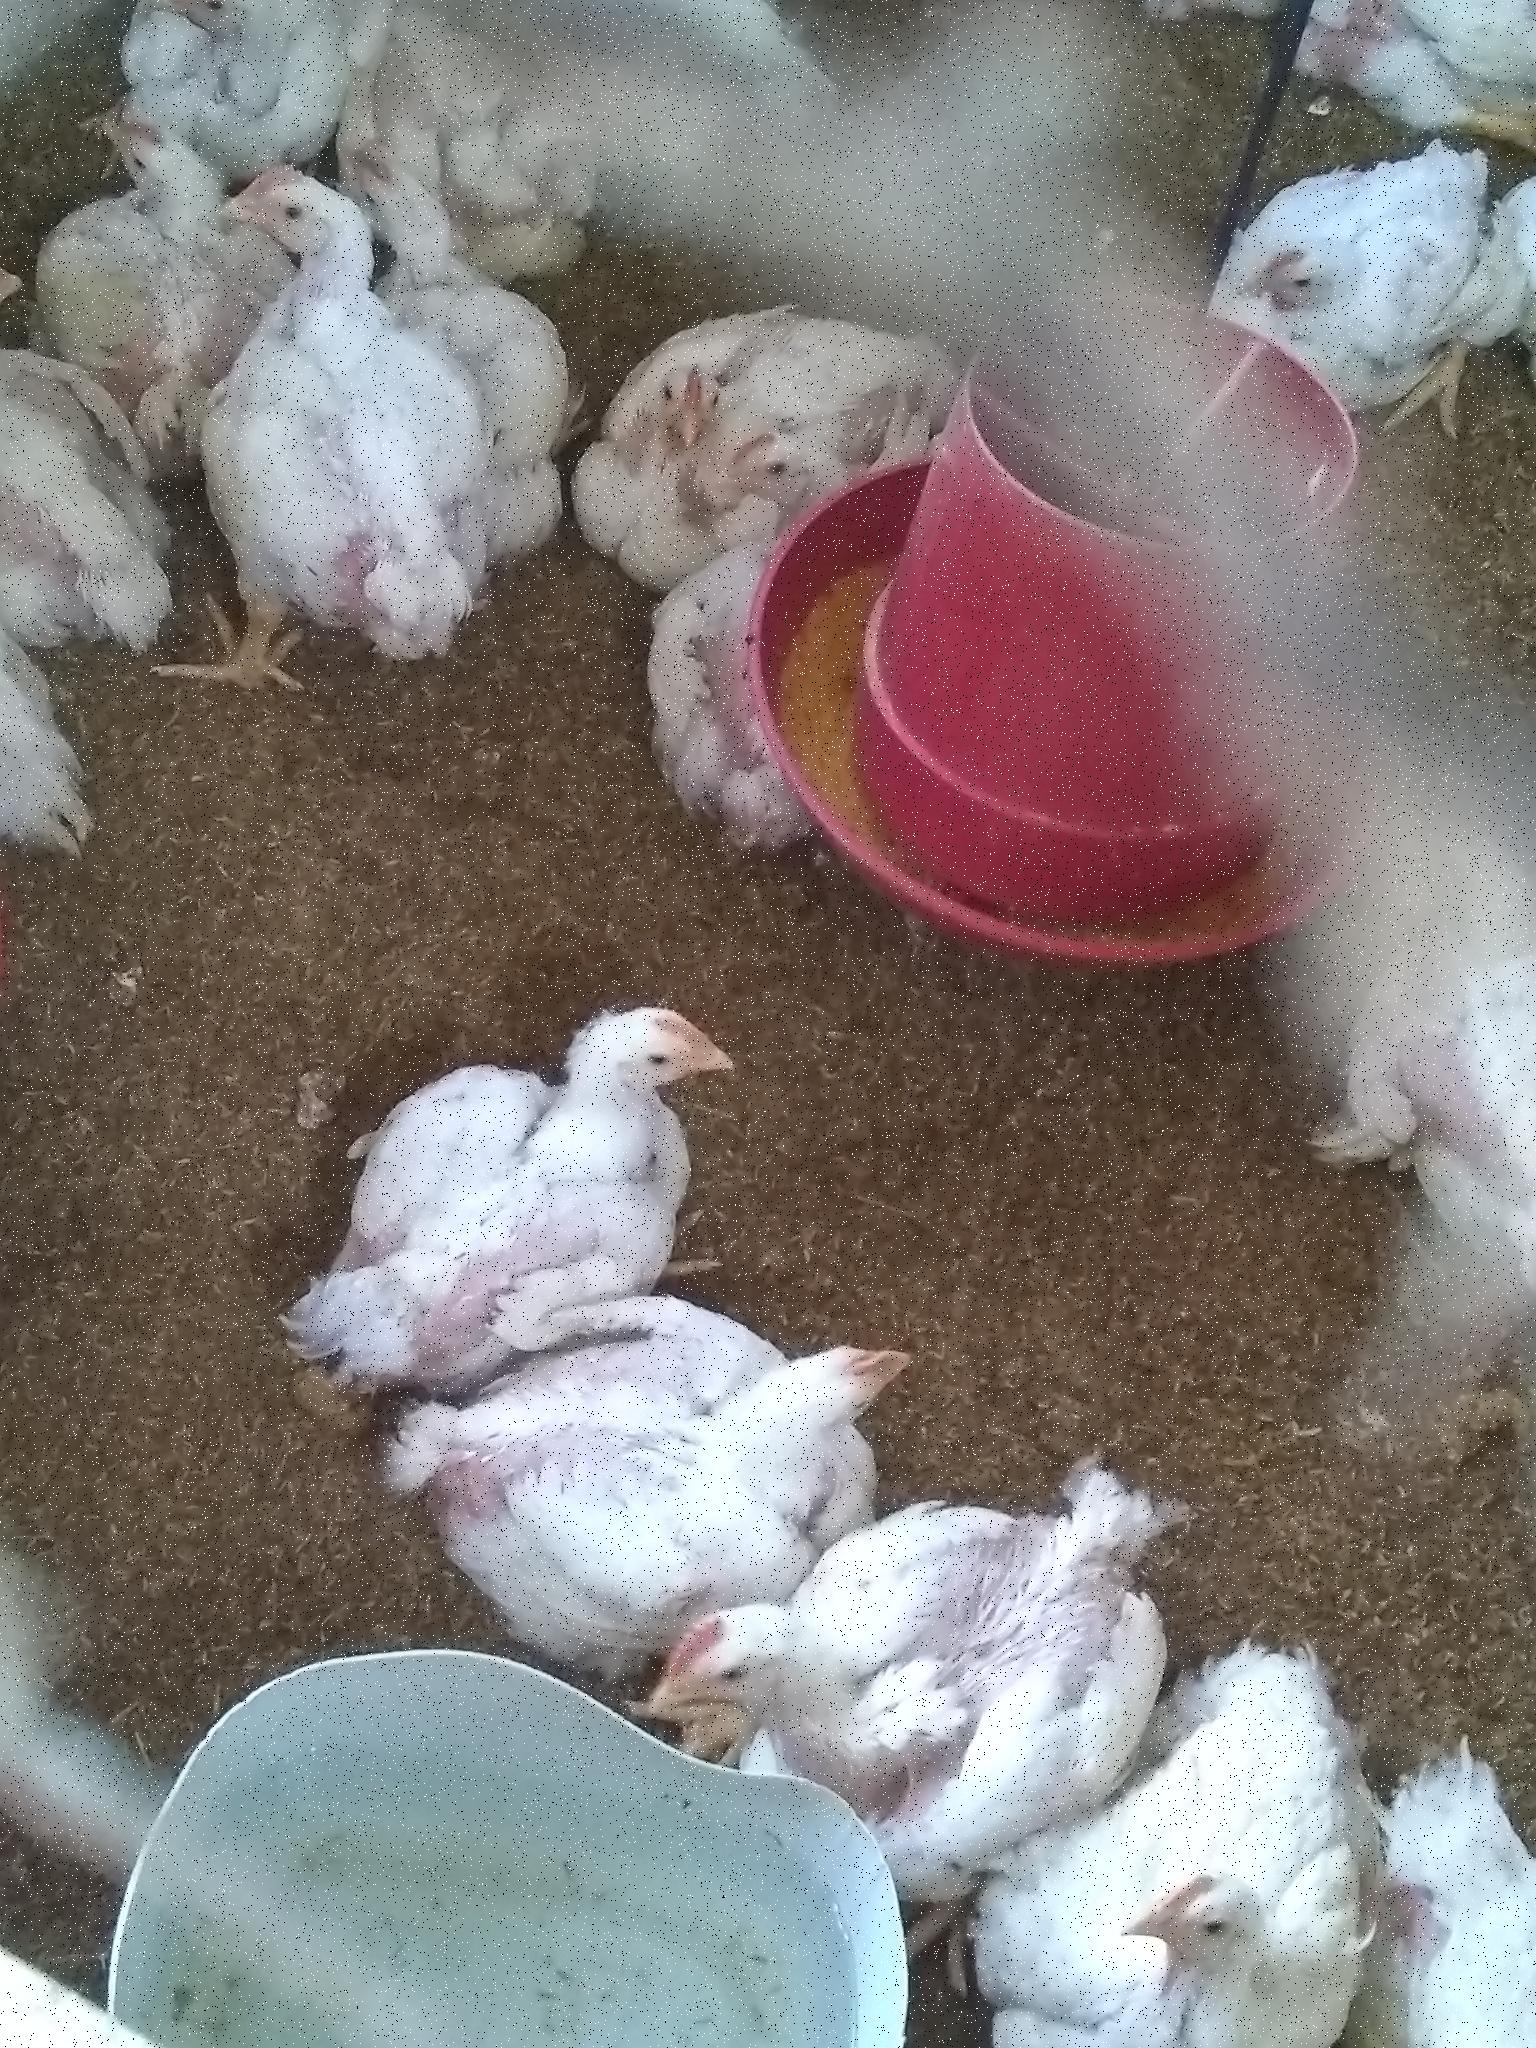Pollos: (616, 1469, 1241, 1837), (649, 364, 1002, 850), (1016, 1650, 1442, 2048), (453, 1277, 970, 1600), (211, 163, 478, 750), (269, 985, 745, 1272), (1129, 98, 1510, 427), (361, 90, 576, 531), (2, 337, 171, 760), (87, 2, 395, 226), (553, 281, 741, 531), (1384, 1771, 1536, 2048), (63, 82, 194, 319)
